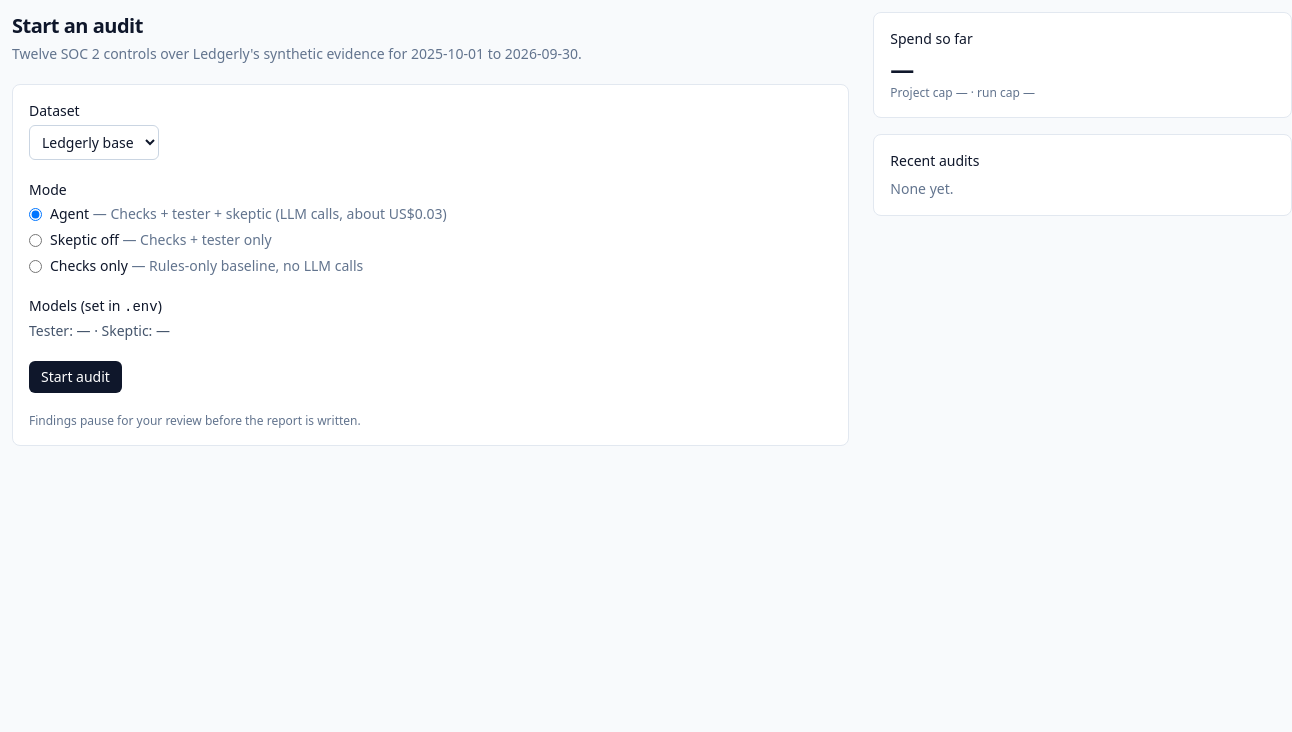
Test: Start screen › shows the API-down message when starting fails to connect
The image size is (1292, 732).
Click the button "Start audit" at {"x": 75, "y": 377}, box 29,361 -> 122,393
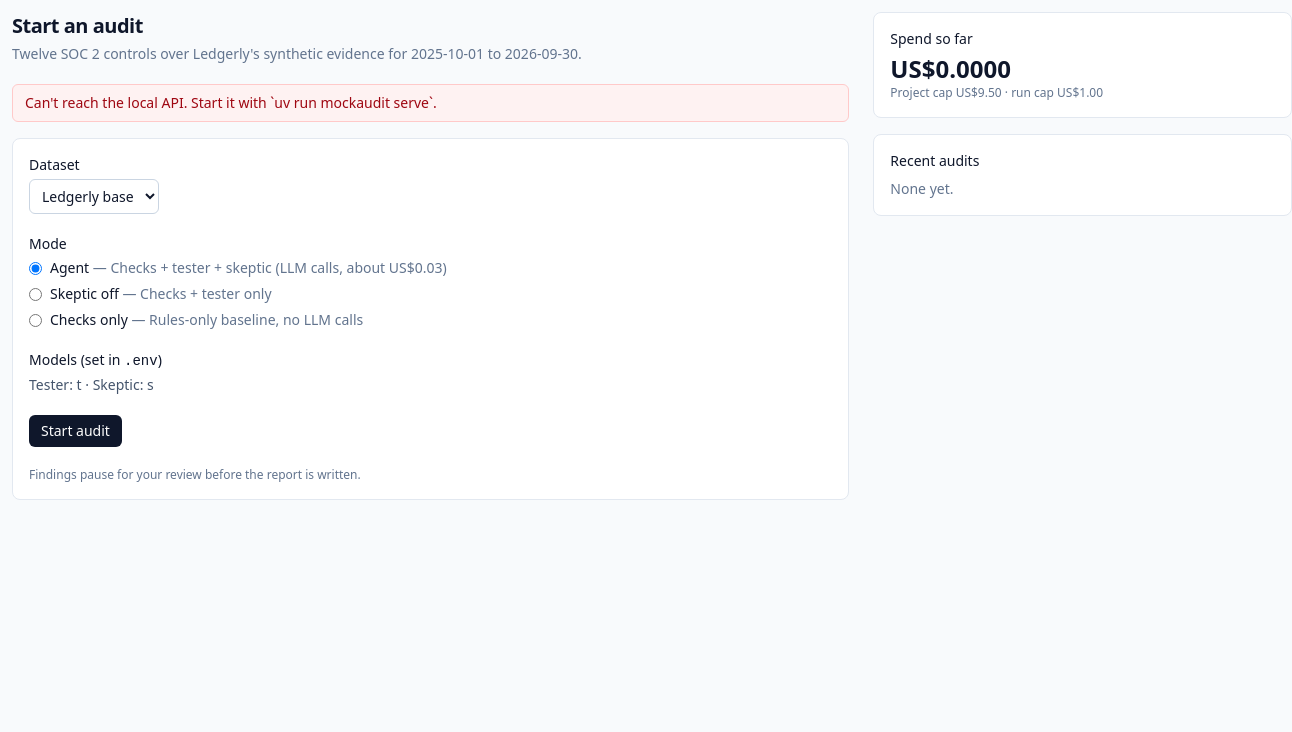
expect the message reads "Can't reach the local API. Start it with `uv run mockaudit serve`.": met, box 25,93 -> 437,112
